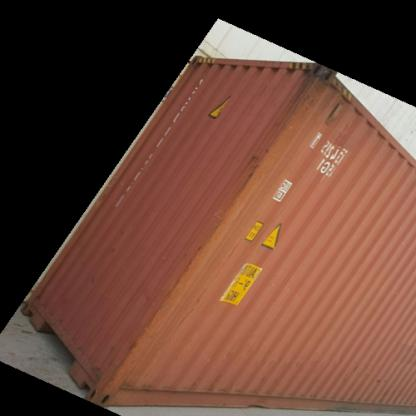Damage: (109, 249, 206, 384), (202, 138, 295, 252), (280, 61, 332, 151)
